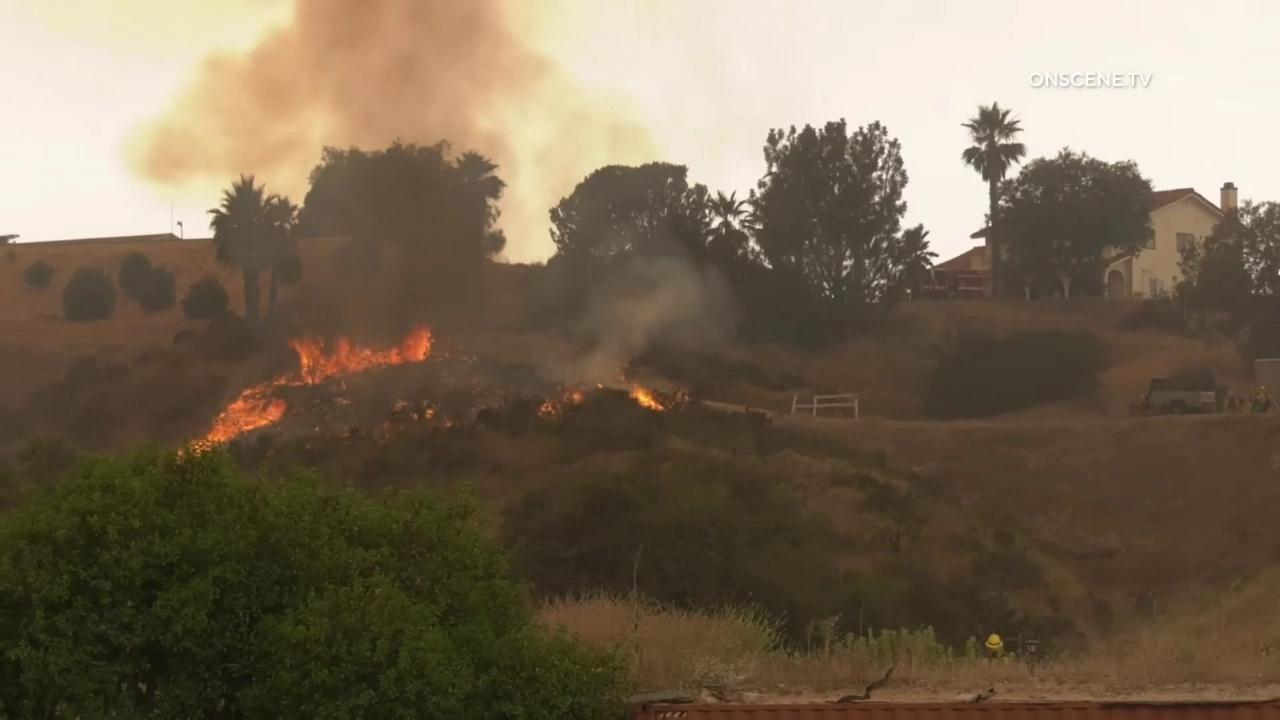fire: (176, 323, 433, 464), (628, 384, 665, 412), (535, 399, 557, 417), (391, 399, 408, 415), (563, 391, 582, 404), (424, 408, 435, 420), (444, 417, 451, 428), (597, 383, 603, 389)
smoke: (138, 0, 734, 446)
